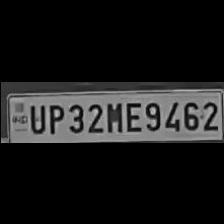2: (85, 99, 103, 133), (200, 97, 218, 130)
3: (64, 100, 84, 132)
4: (162, 97, 180, 131)
6: (180, 98, 200, 130)
9: (142, 97, 160, 130)
E: (122, 98, 140, 132)
M: (104, 97, 122, 132)
P: (45, 100, 63, 134)
U: (26, 101, 44, 133)
